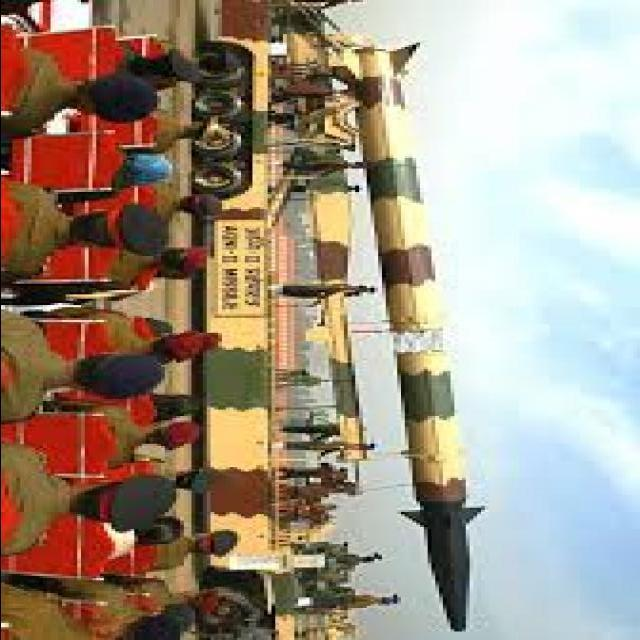missile: (350, 39, 482, 640)
